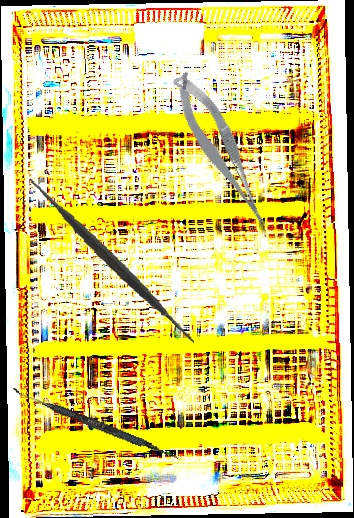Micro Scissor: (166, 63, 274, 239)
Spatula Surgical: (15, 164, 209, 356), (10, 387, 181, 461)
